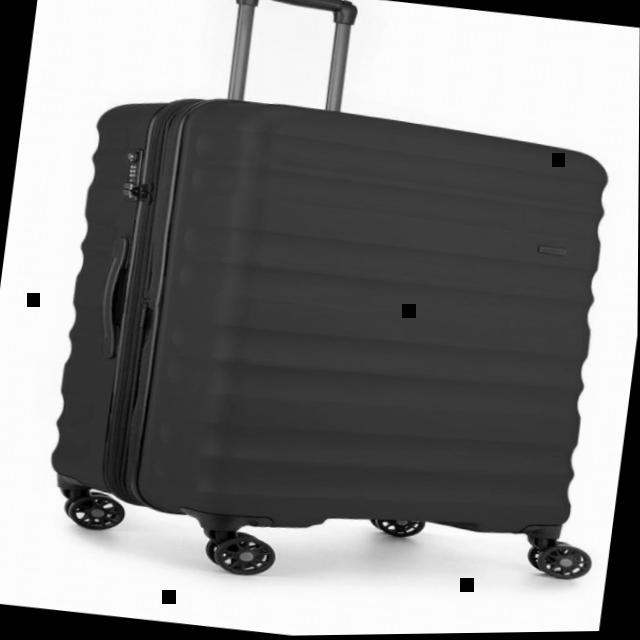luggage: (30, 72, 629, 572)
